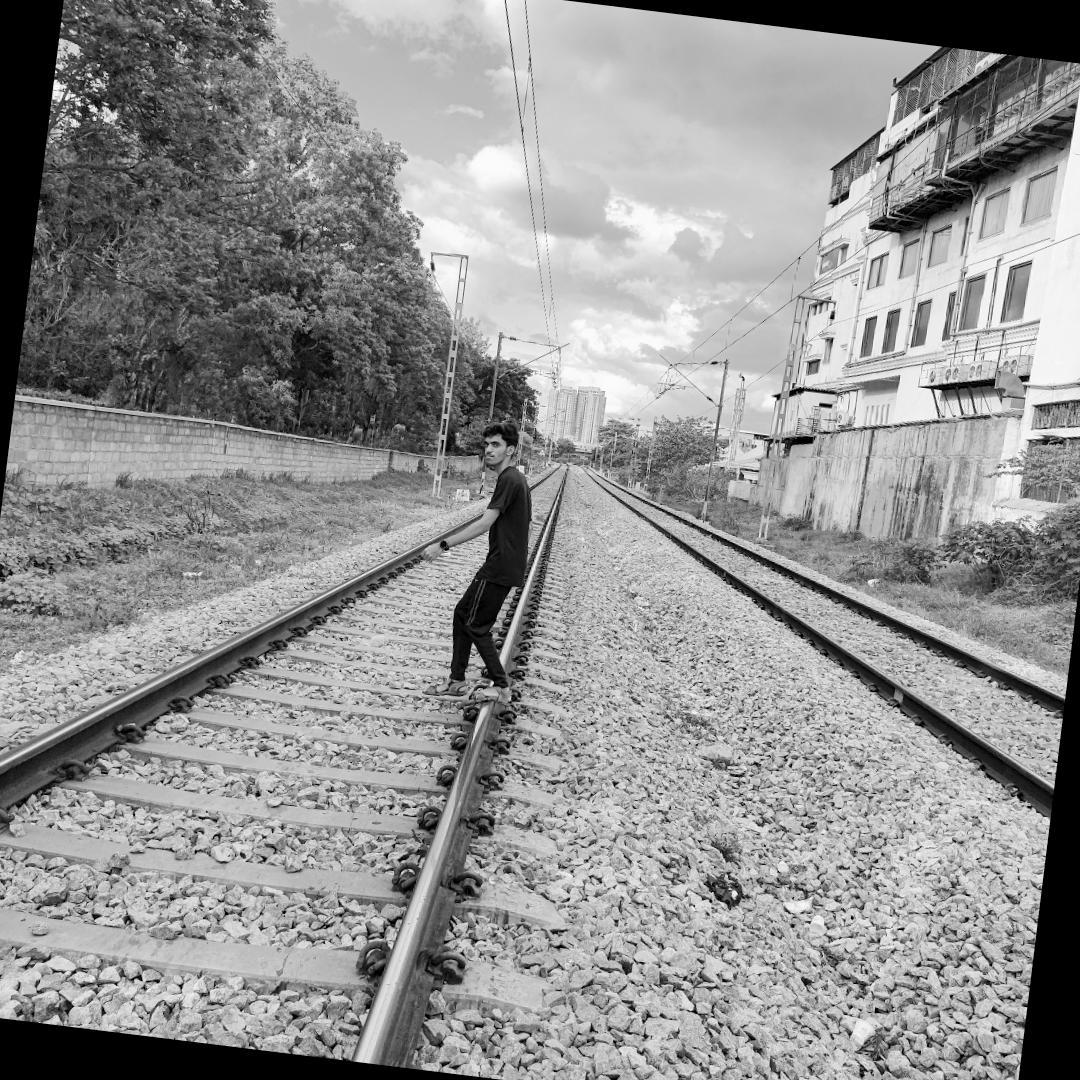standing: (416, 408, 544, 718)
